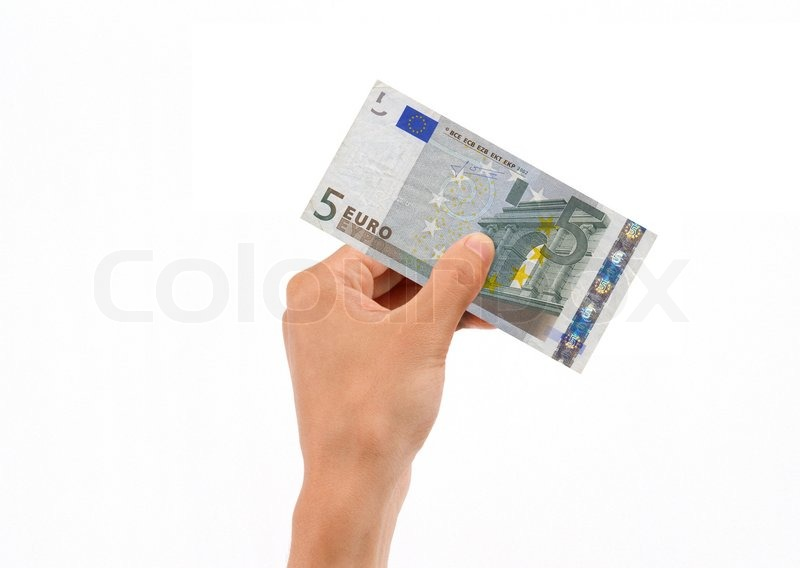billete: (298, 77, 660, 378)
